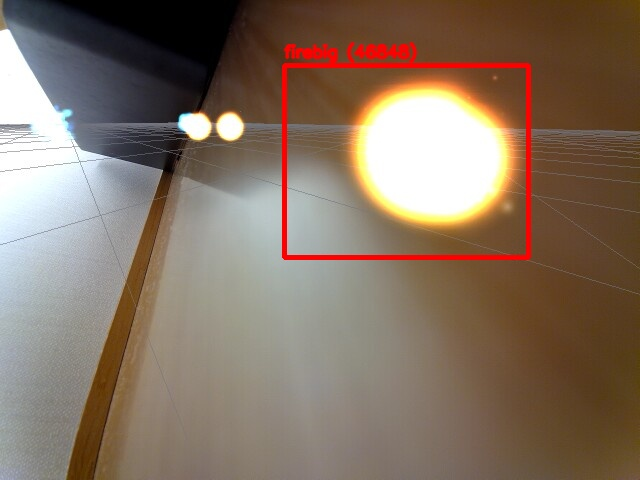firebig: (284, 65, 528, 257)
